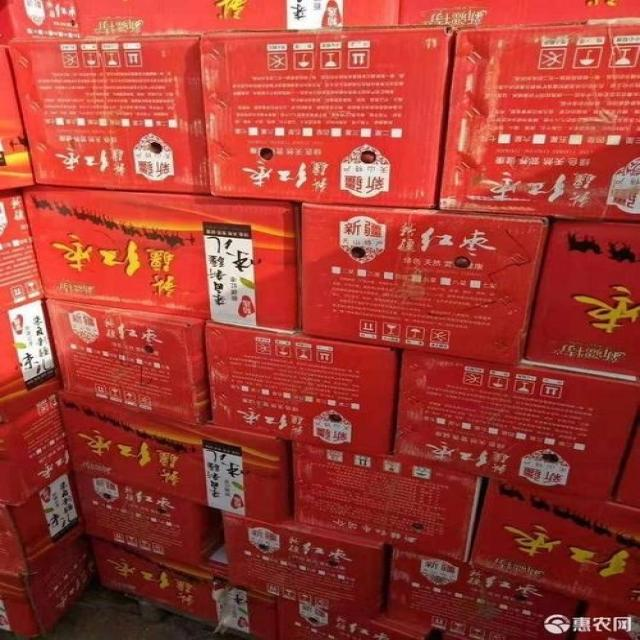box: (200, 26, 457, 209), (21, 184, 302, 334), (302, 202, 551, 366), (439, 21, 639, 224), (392, 350, 639, 501), (57, 388, 293, 526), (7, 35, 210, 194), (204, 320, 400, 458), (290, 440, 482, 563), (468, 478, 639, 616), (45, 299, 211, 425), (85, 535, 278, 639), (520, 219, 639, 382), (223, 511, 391, 621), (384, 548, 577, 639), (72, 469, 223, 571), (74, 0, 399, 38), (0, 535, 96, 638), (0, 469, 85, 577), (0, 393, 72, 507), (0, 299, 64, 423), (398, 0, 639, 31), (276, 598, 430, 639), (0, 188, 44, 314), (0, 45, 35, 190), (2, 0, 79, 45)
